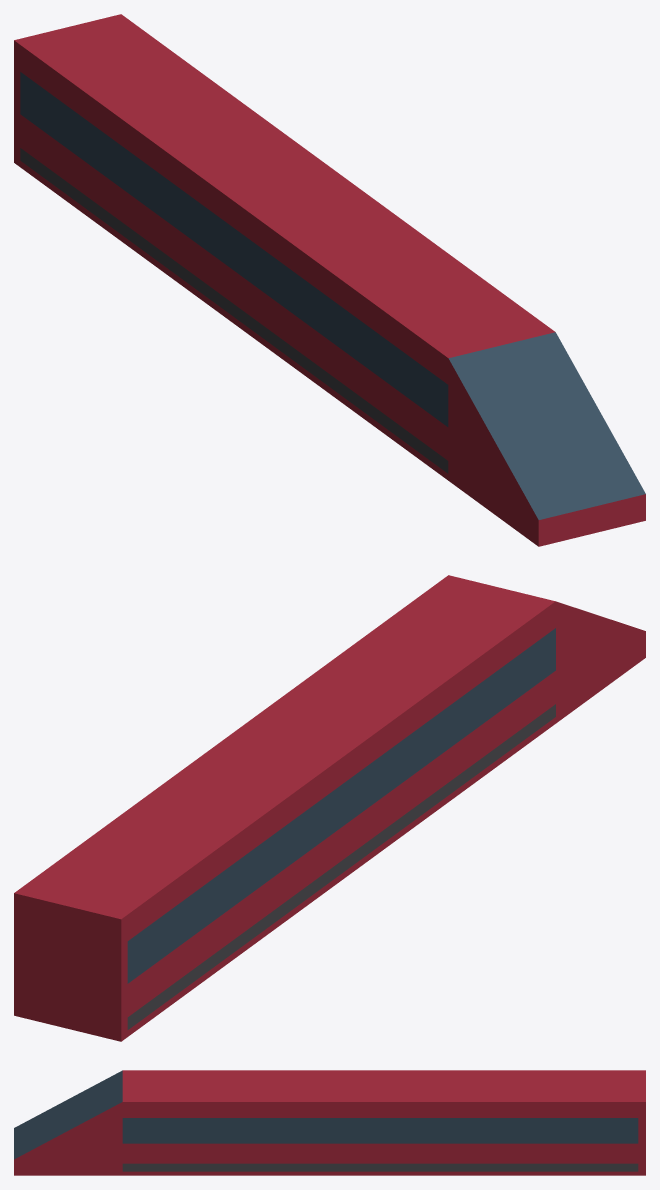
File: 1_far.fbx
3 renders of one model, top to bottom at view 1: azimuth 30°, elevation 25°; view 2: azimuth 150°, elevation 25°; view 3: azimuth 270°, elevation 25°, orthographic. The views are drawn at different scales.
Visible parts, largest first — view 1: 21_1_far; view 2: 21_1_far; view 3: 21_1_far.
Part boxes in pixels (left/top/right/bottom): 21_1_far: left=14, top=14, right=645, bottom=546; 21_1_far: left=14, top=575, right=645, bottom=1041; 21_1_far: left=14, top=1070, right=645, bottom=1175.
Size of the model in its own units: 2.96 by 3.22 by 25.
